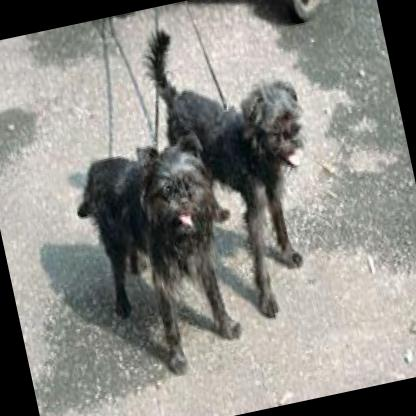affenpinscher: (131, 0, 345, 331), (75, 130, 246, 385)
